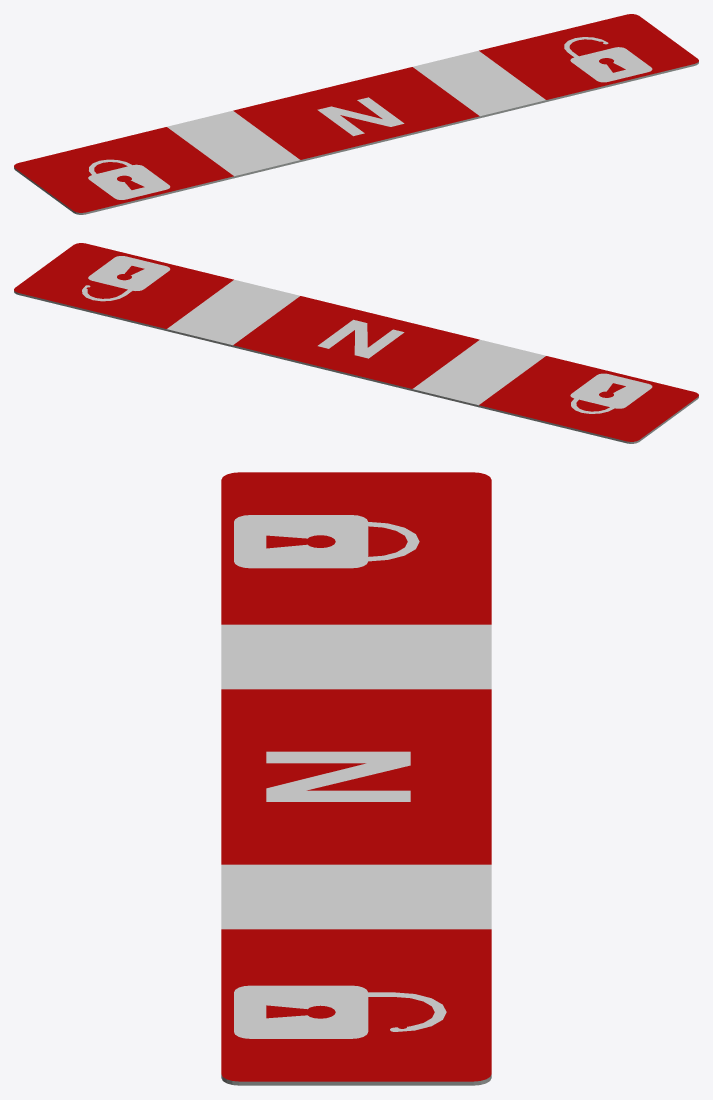
3 renders of one model, top to bottom at view 1: azimuth 30°, elevation 25°; view 2: azimuth 150°, elevation 25°; view 3: azimuth 270°, elevation 25°, orthographic. The views are drawn at different scales.
Visible parts, largest first — view 1: world; view 2: world; view 3: world.
Boxes of the visible parts, x1,y1,x2,y2 form: world: [14, 14, 698, 214]; world: [14, 243, 698, 443]; world: [221, 472, 491, 1085].
Bounding box in the file's own units: 0.032 × 0.0001 × 0.006.
